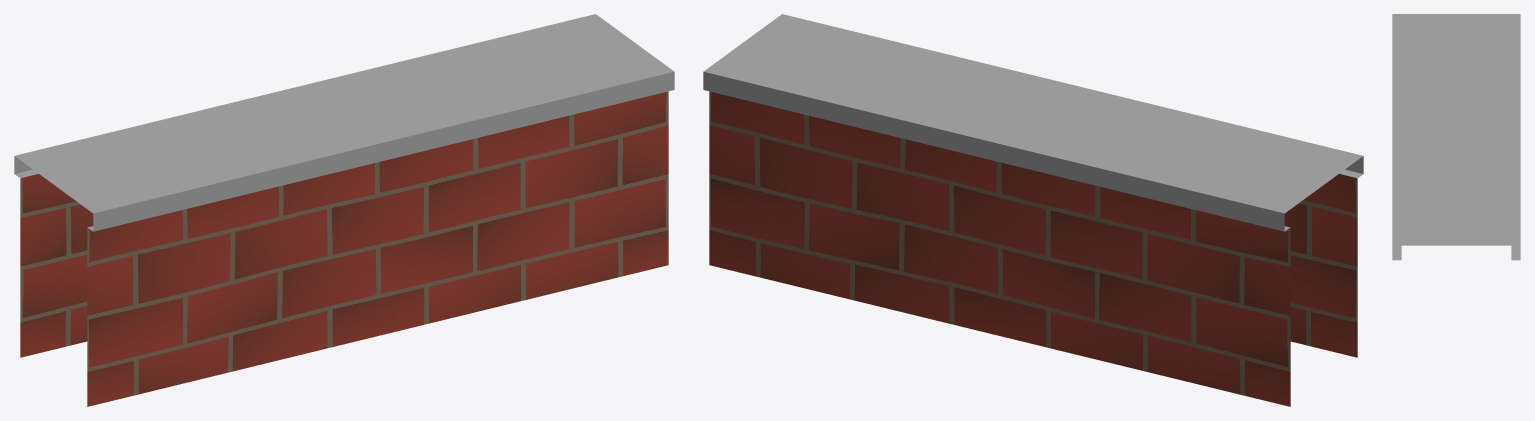
The model's file is SupermarketWall_4m.fbx.
3 views of the same model, side by side, from view 1: azimuth 30°, elevation 25°; view 2: azimuth 150°, elevation 25°; view 3: azimuth 270°, elevation 25° (orthographic). The views are drawn at different scales.
Parts seen in each view (by area): view 1: BrickWall_MC; view 2: BrickWall_MC; view 3: BrickWall_MC.
Part boxes in pixels (x1,y1,x2,y2): BrickWall_MC: (14,14,674,406); BrickWall_MC: (703,14,1363,406); BrickWall_MC: (1392,14,1520,260).
Bounding box in the file's own units: 400 × 130 × 93.9.
